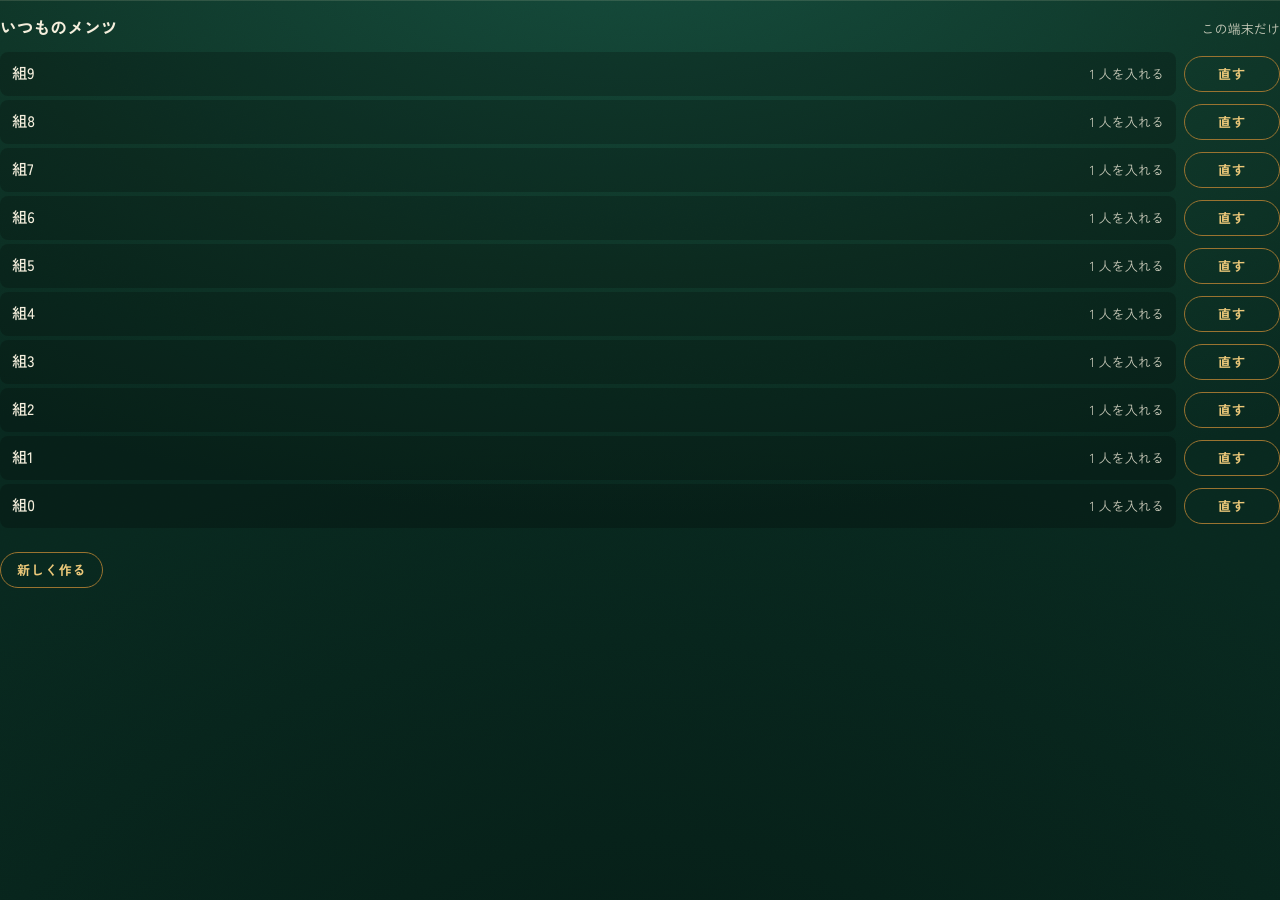
Test: 保存の検証 › Given 10 組ある / When 11 組目を保存 / Then 10 組まで保存できます
The width and height of the screenshot is (1280, 900).
Click the button "新しく作る" at (52, 570), box [0,552,104,588]
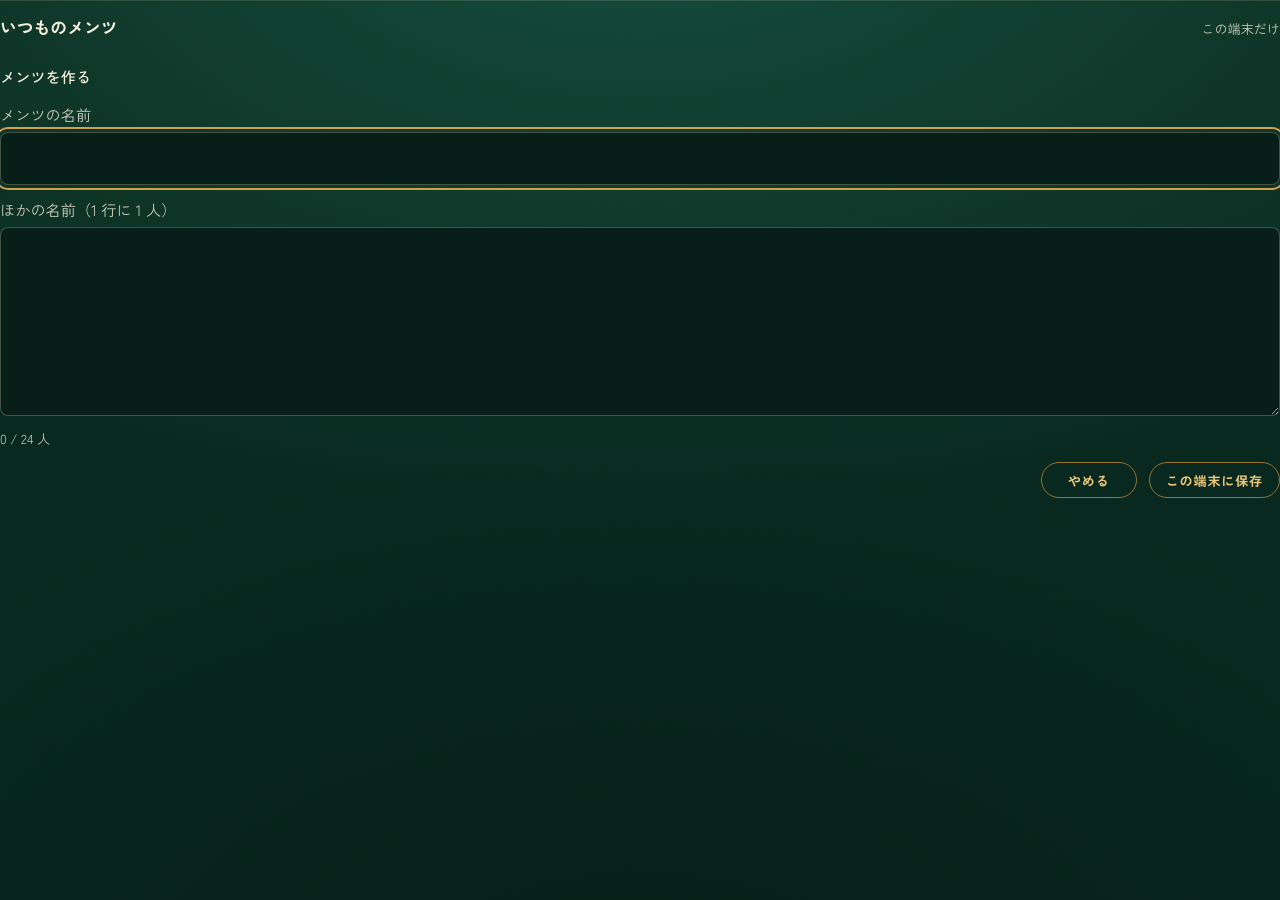
Type "十一" into the field labelled "メンツの名前" at (640, 159), box [0,132,1279,185]
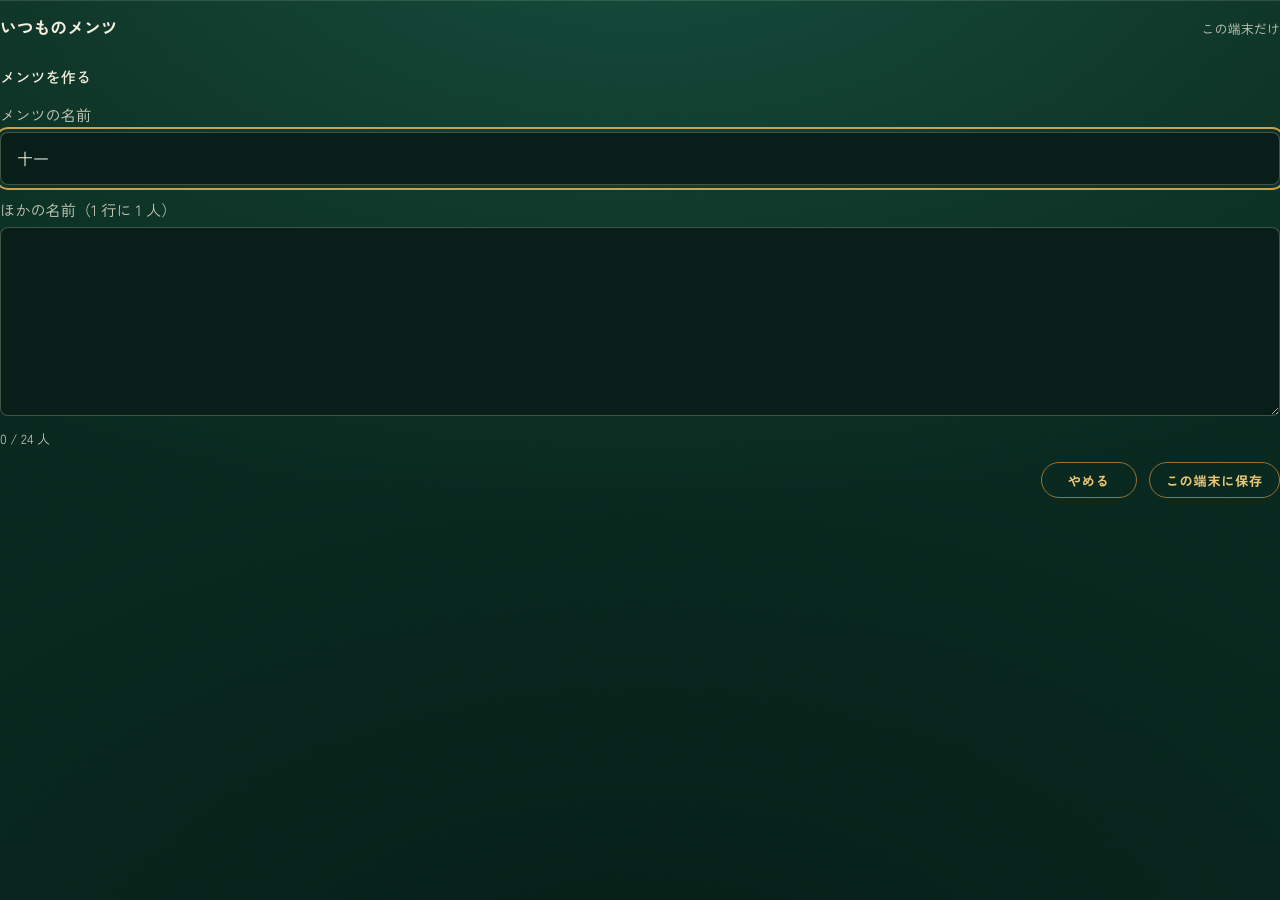
Type "すずき" into the text box labelled "ほかの名前（1 行に 1 人）" at (640, 322), box [0,227,1279,416]
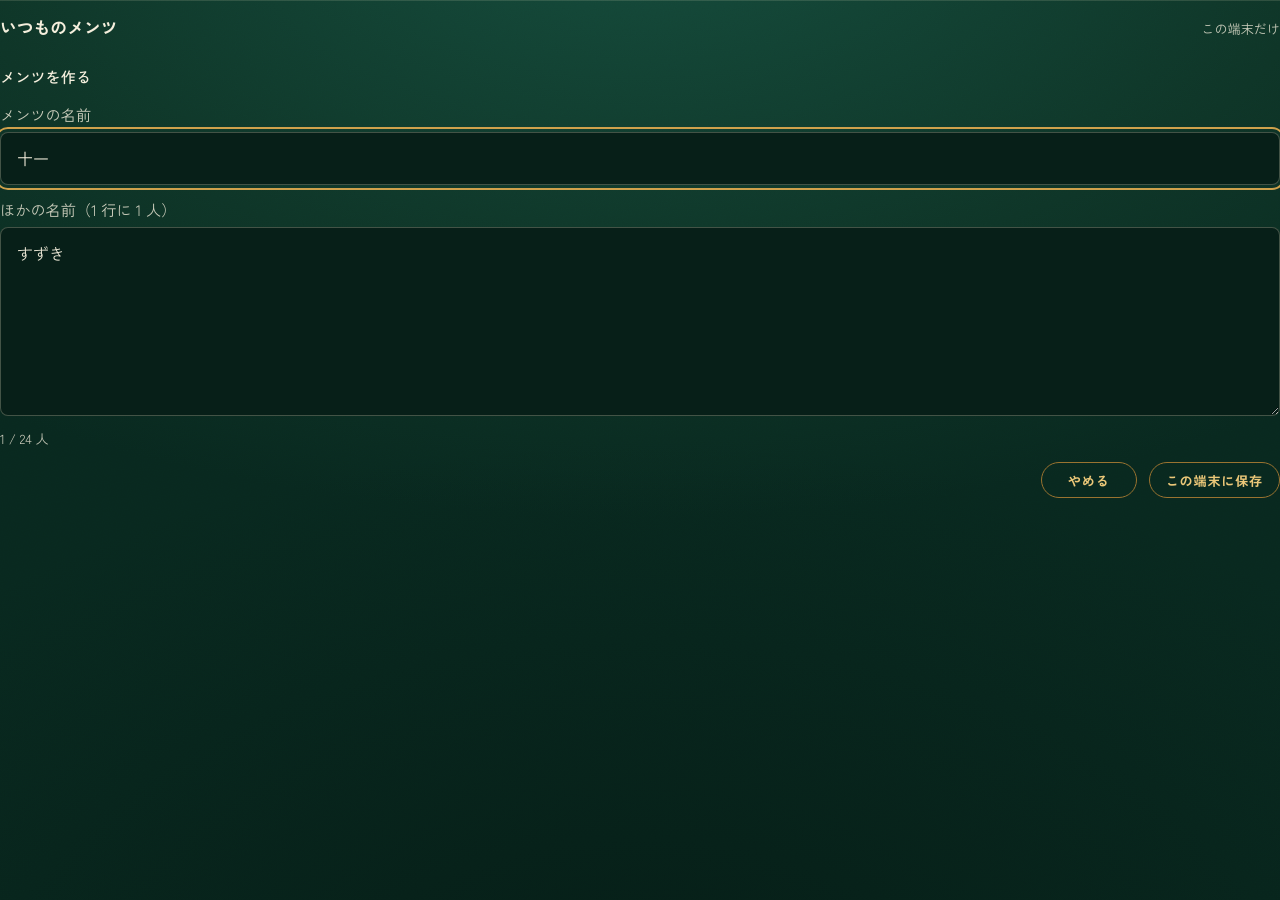
Click the button "この端末に保存" at (1214, 480), box [1149,462,1279,498]
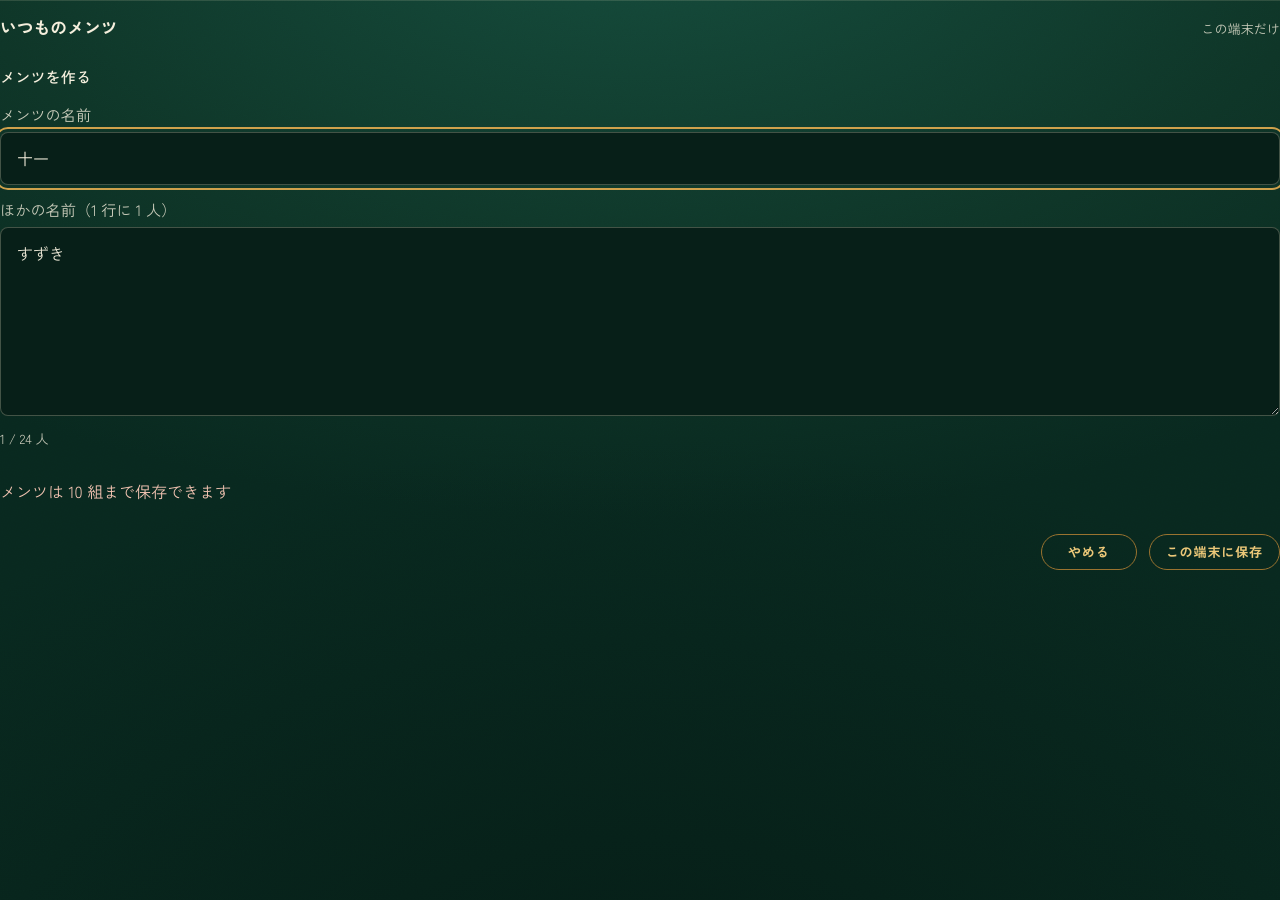
Expected: the message "メンツは 10 組まで保存できます" is shown, [0,480,231,504]
